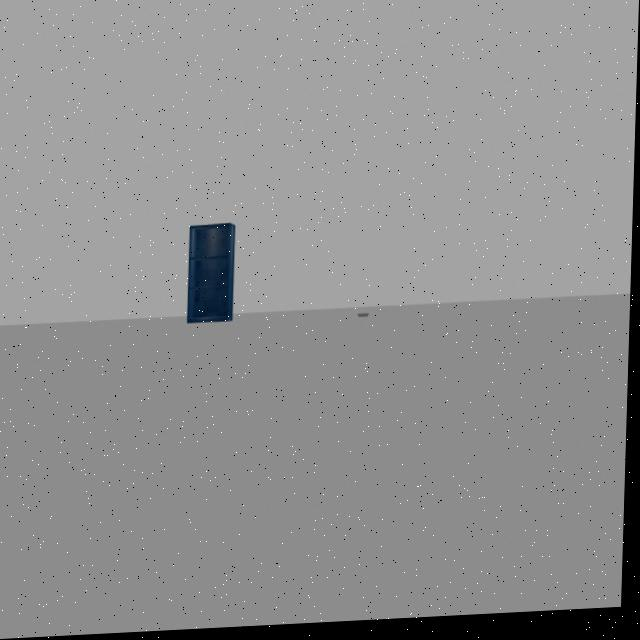bowl: (352, 311, 379, 332)
shelf: (181, 215, 246, 339)
